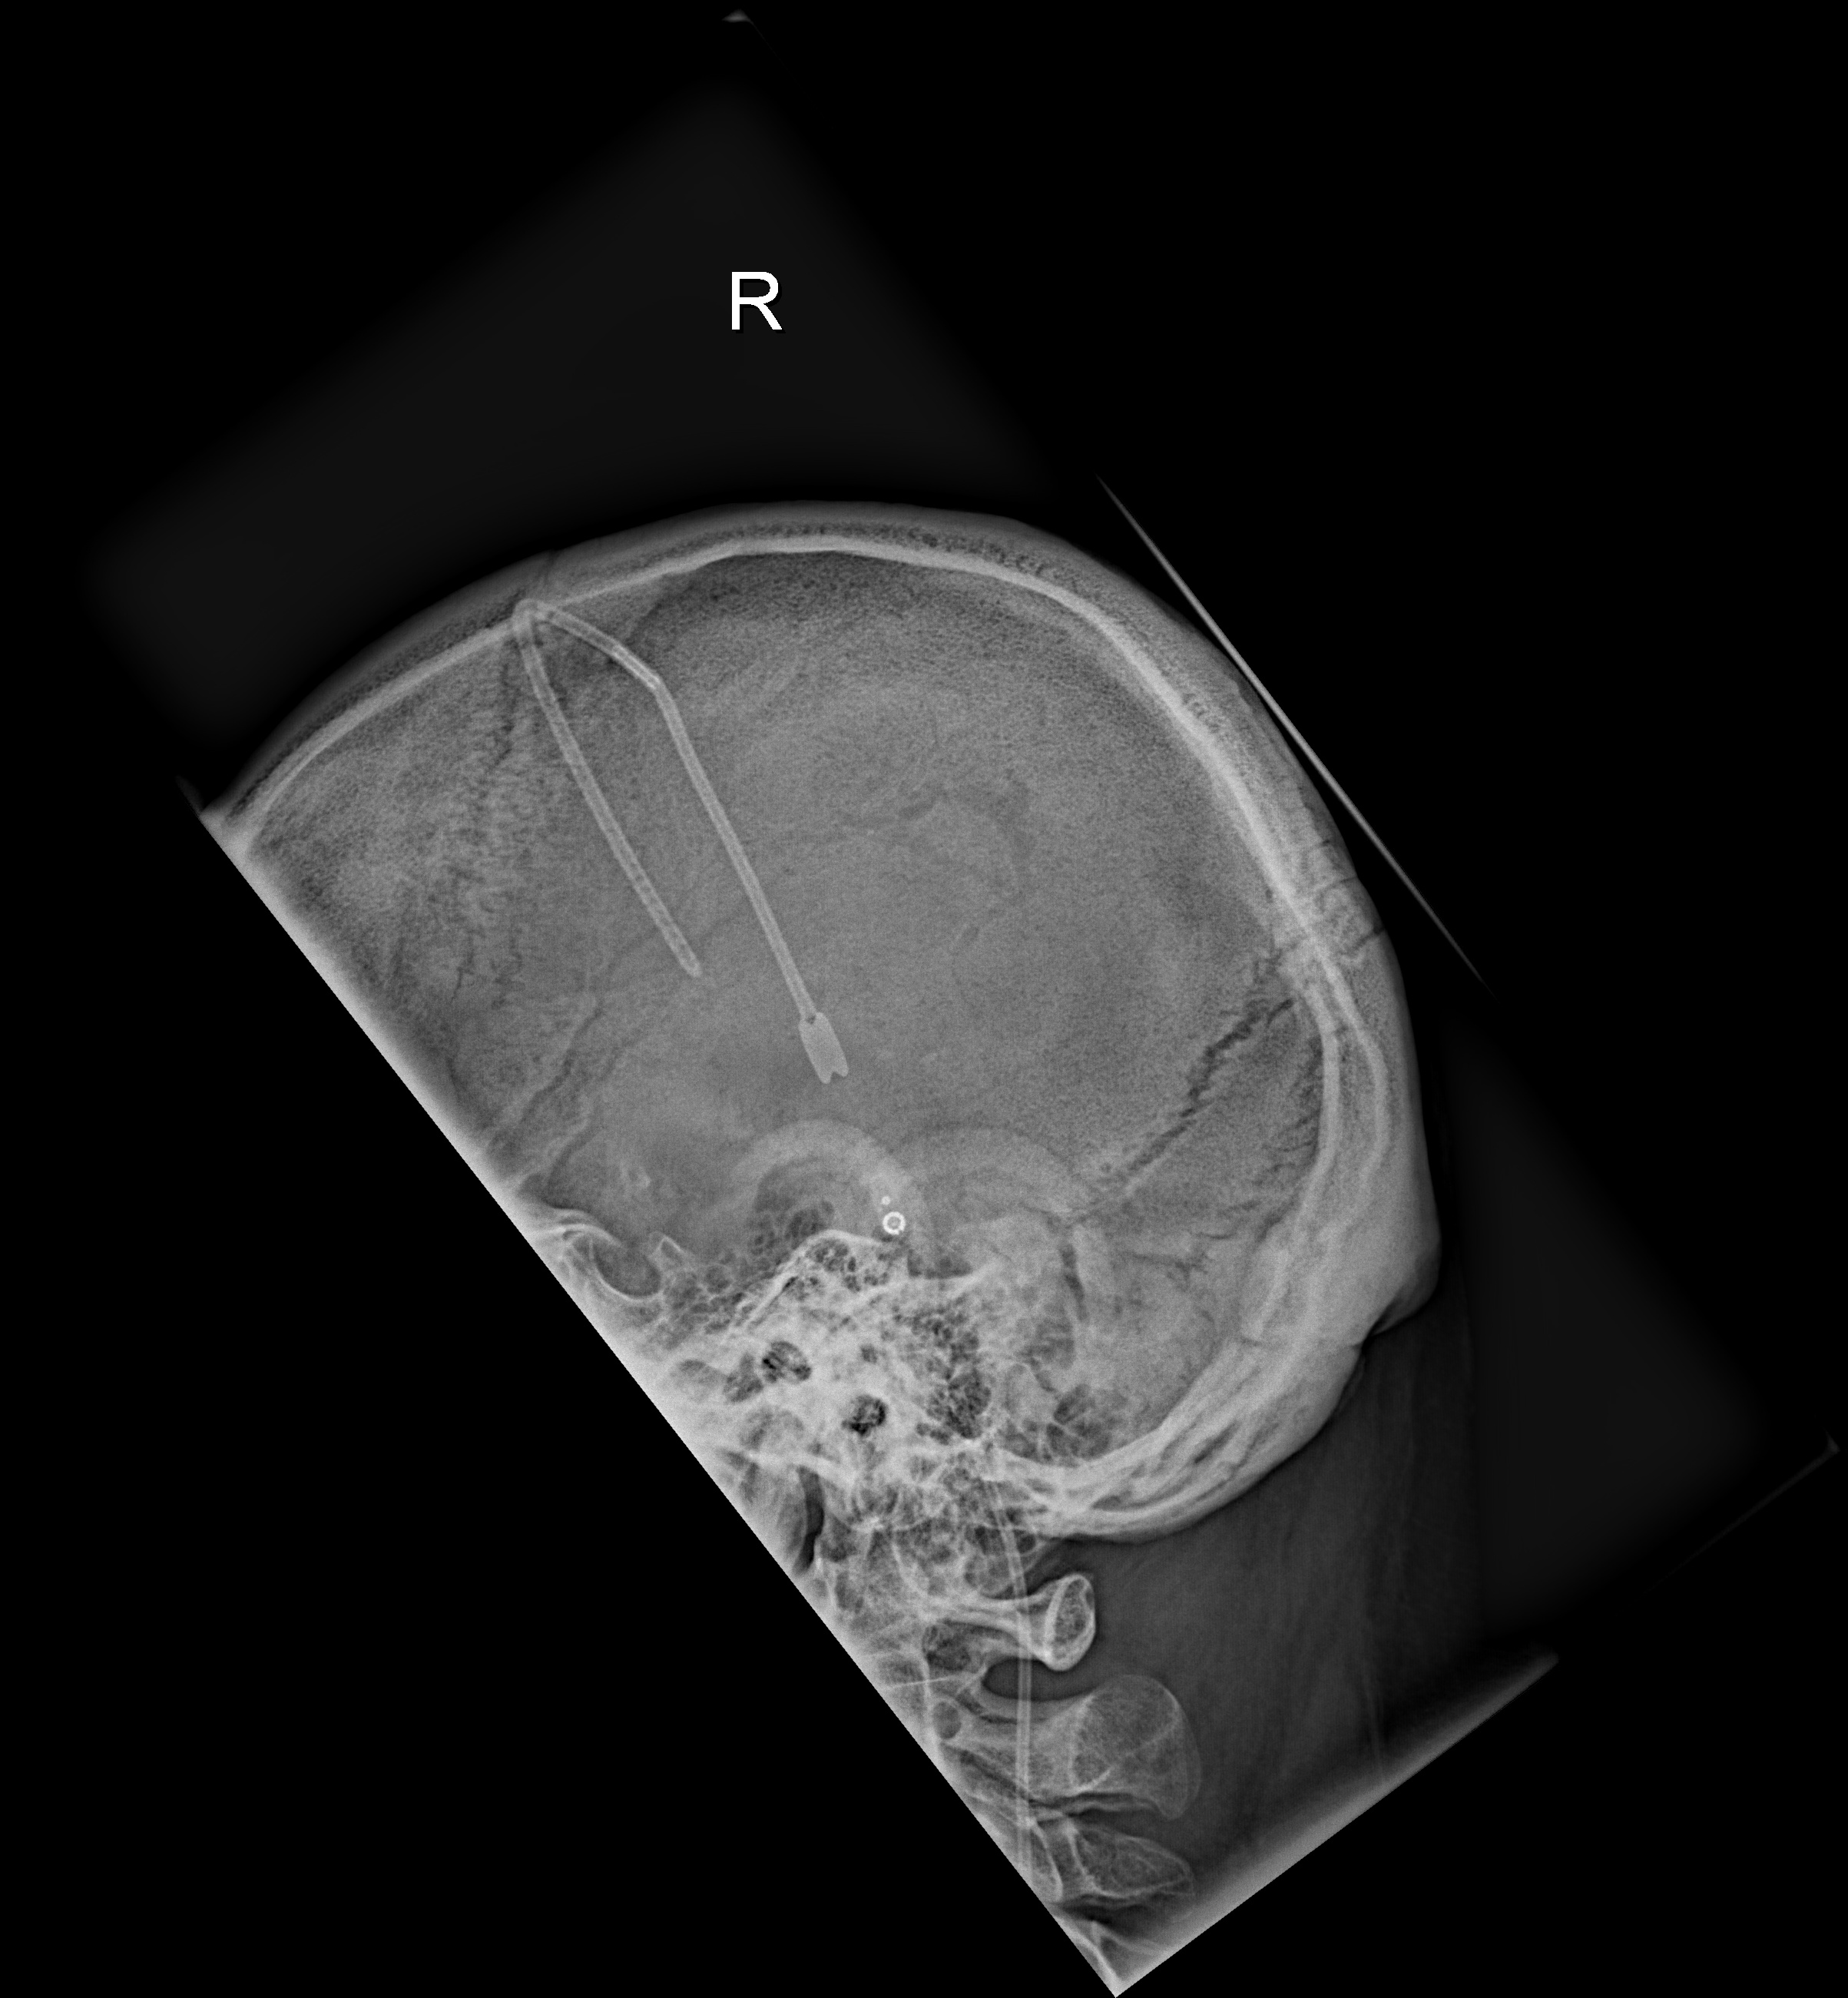Codman Hakim: (867, 1180, 915, 1255)
